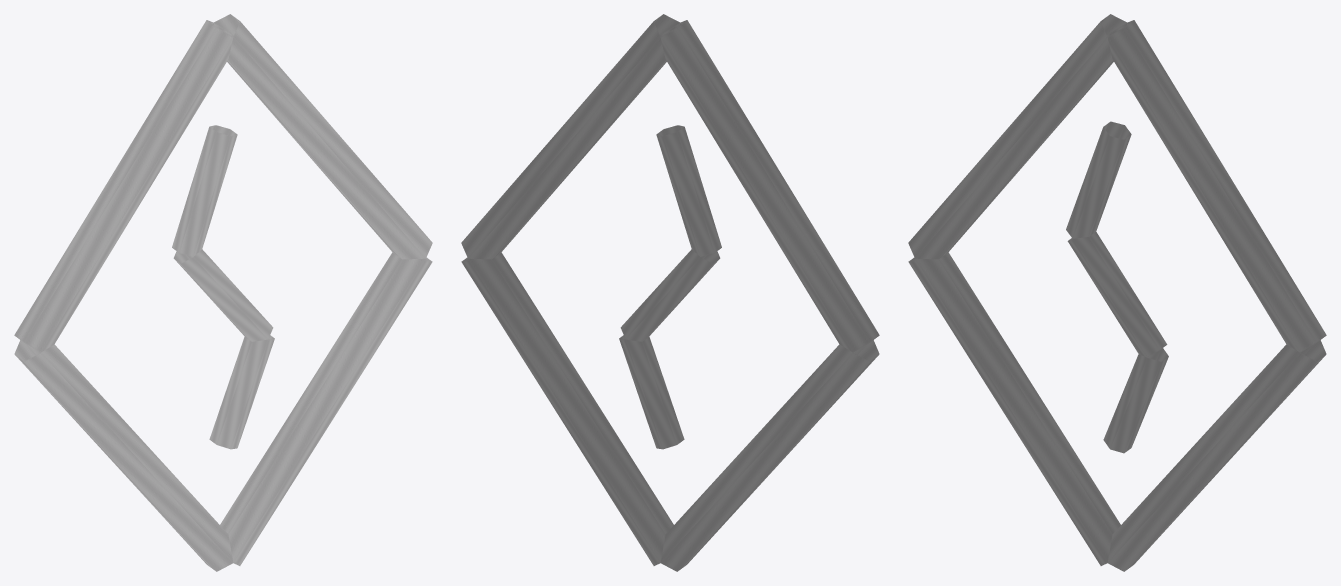
The model's file is crown_inheritance_inner_rune.obj.
The picture shows the model from 3 angles, left to right: view 1: azimuth 30°, elevation 25°; view 2: azimuth 150°, elevation 25°; view 3: azimuth 330°, elevation 25°; orthographic projection.
Parts seen in each view (by area): view 1: crown_inheritance_inner_rune; view 2: crown_inheritance_inner_rune; view 3: crown_inheritance_inner_rune.
Boxes of the visible parts, bbox=[...] form: crown_inheritance_inner_rune: bbox=[14, 14, 432, 571]; crown_inheritance_inner_rune: bbox=[461, 14, 879, 571]; crown_inheritance_inner_rune: bbox=[908, 14, 1326, 571].
Size of the model in its own units: 0.3822 by 0.4869 by 0.032.
Materials: 1 (1 with a texture image).
